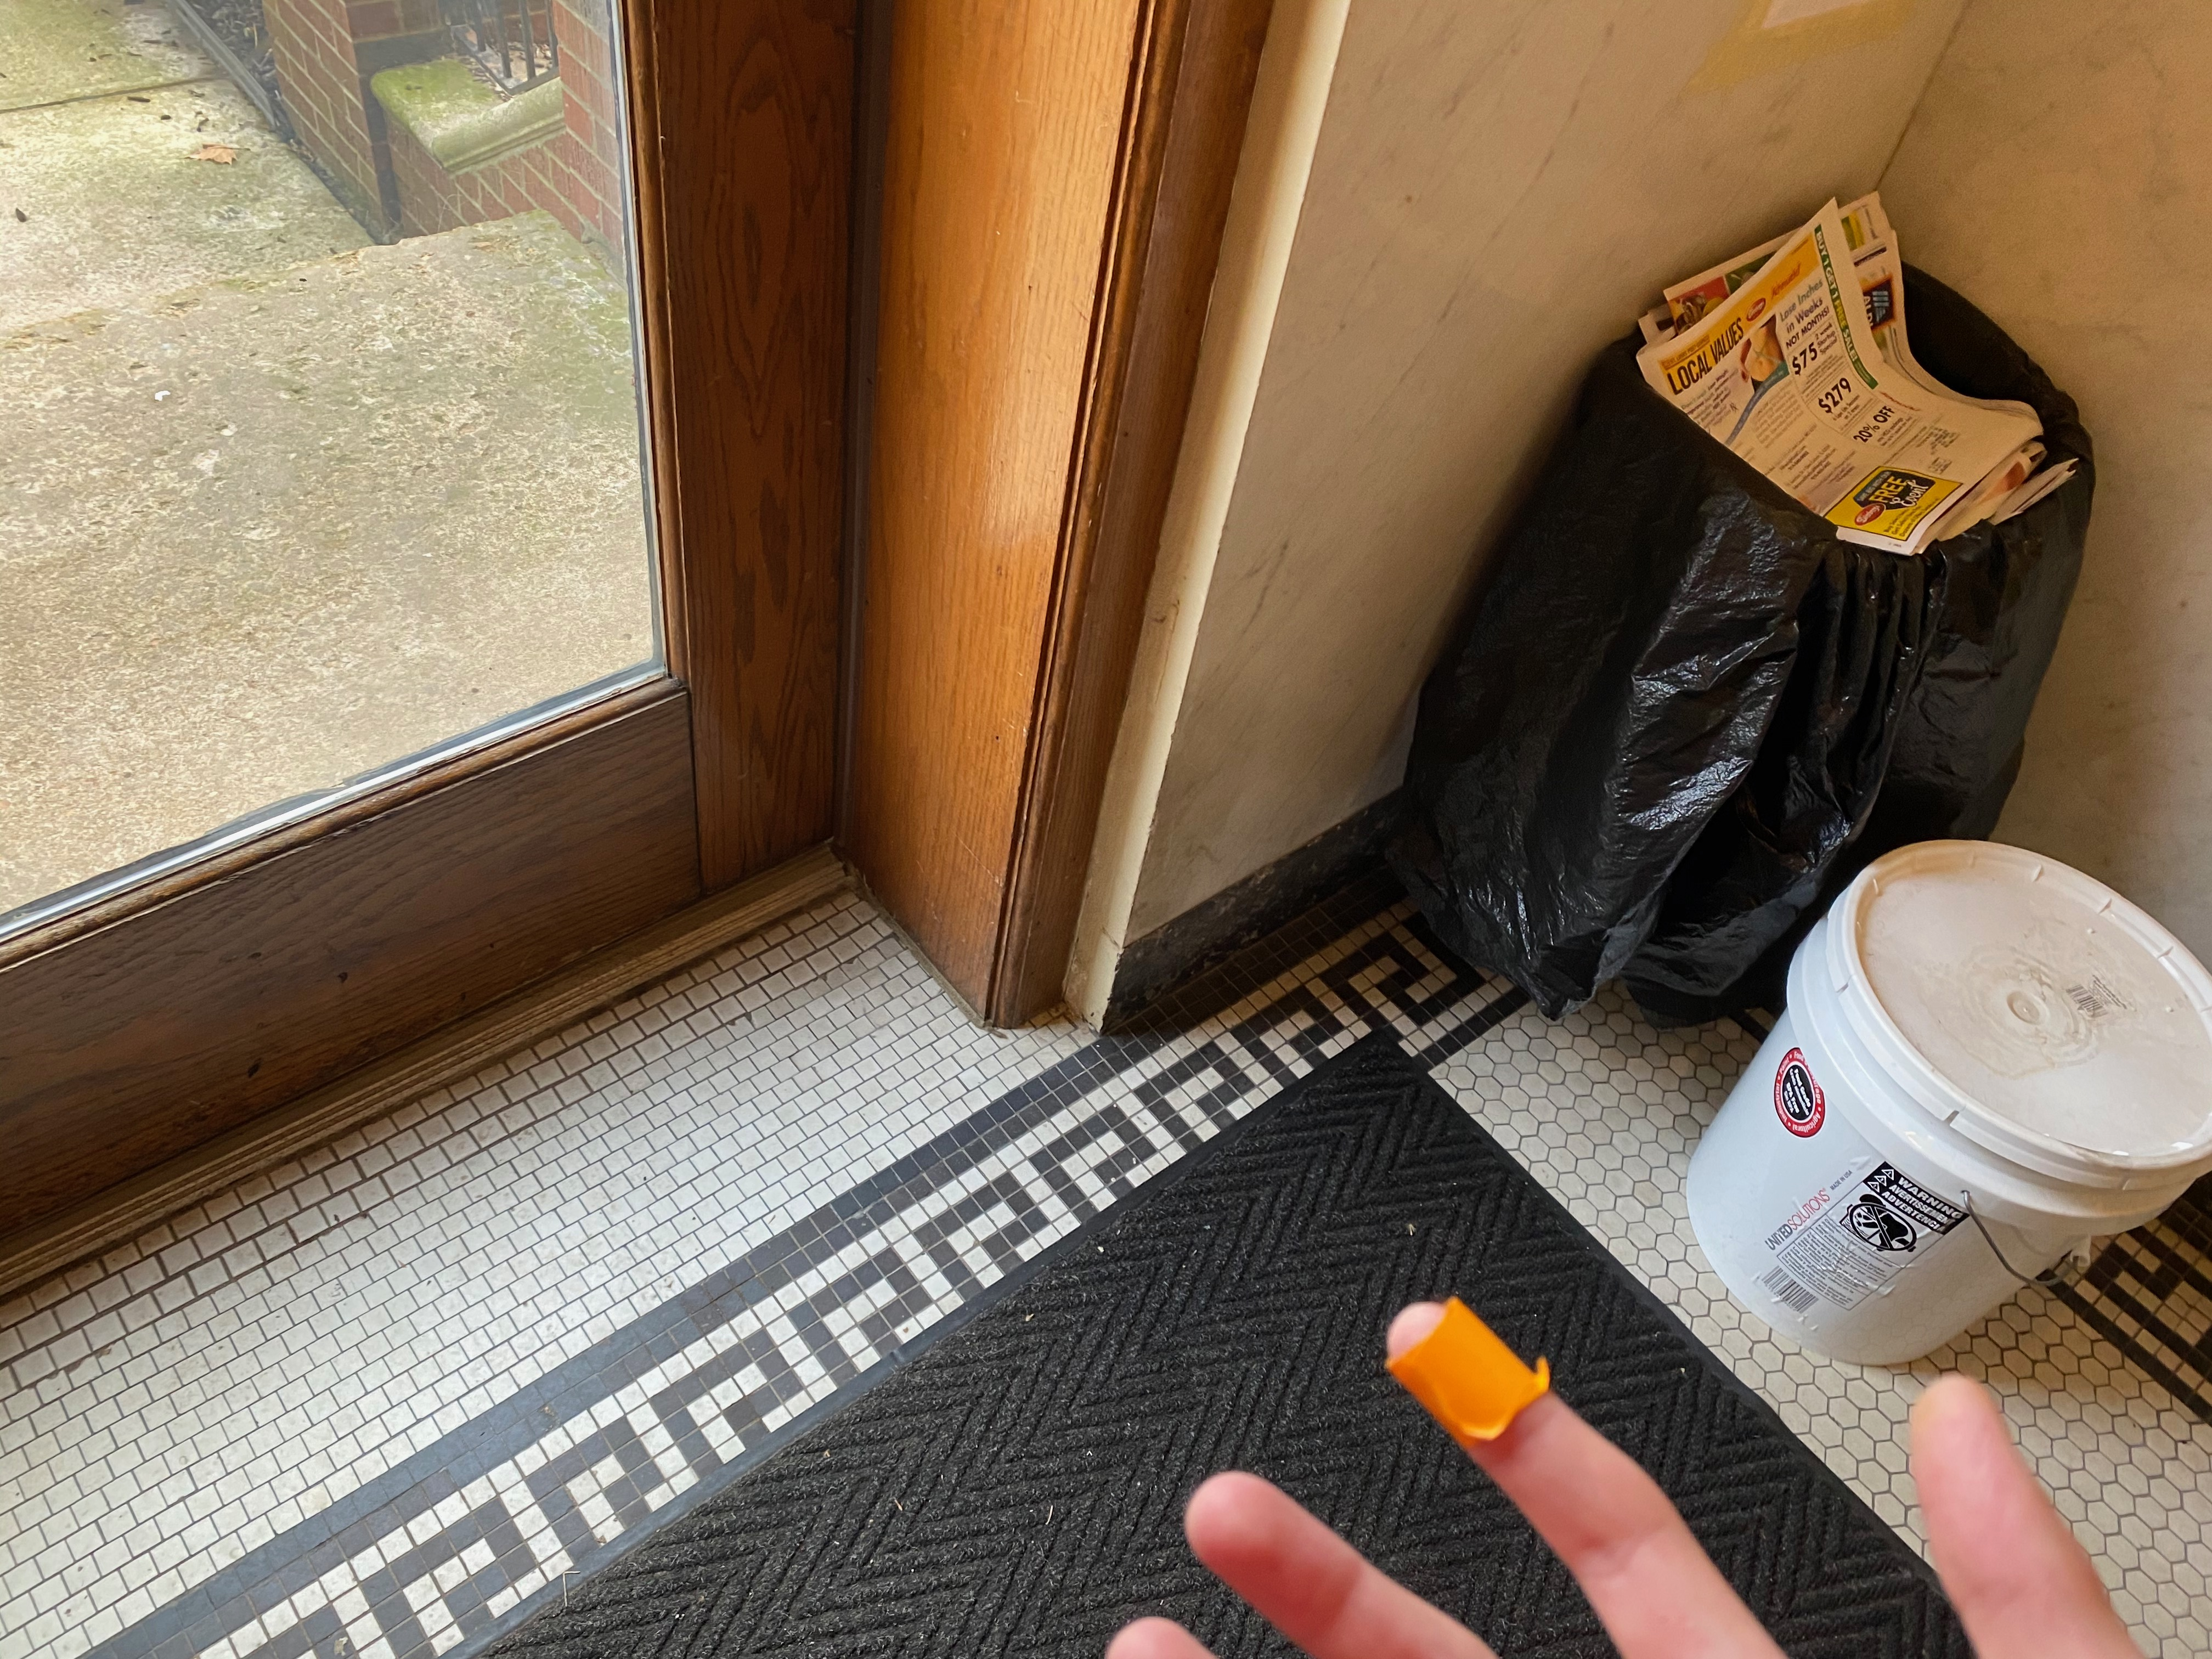fingertip: (1334, 1288, 1635, 1480)
